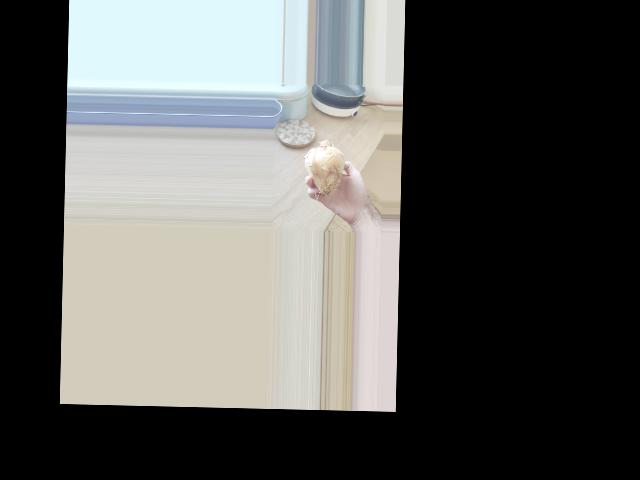onion: (302, 141, 345, 198)
